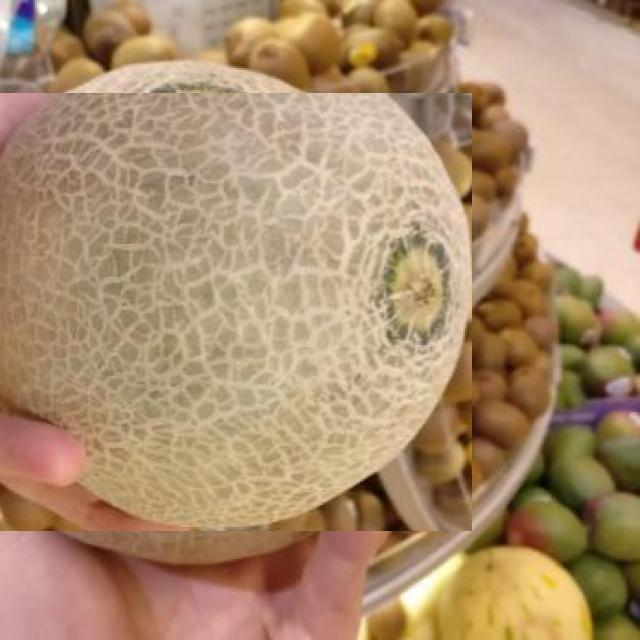Cantaloupe: (0, 94, 472, 531)
